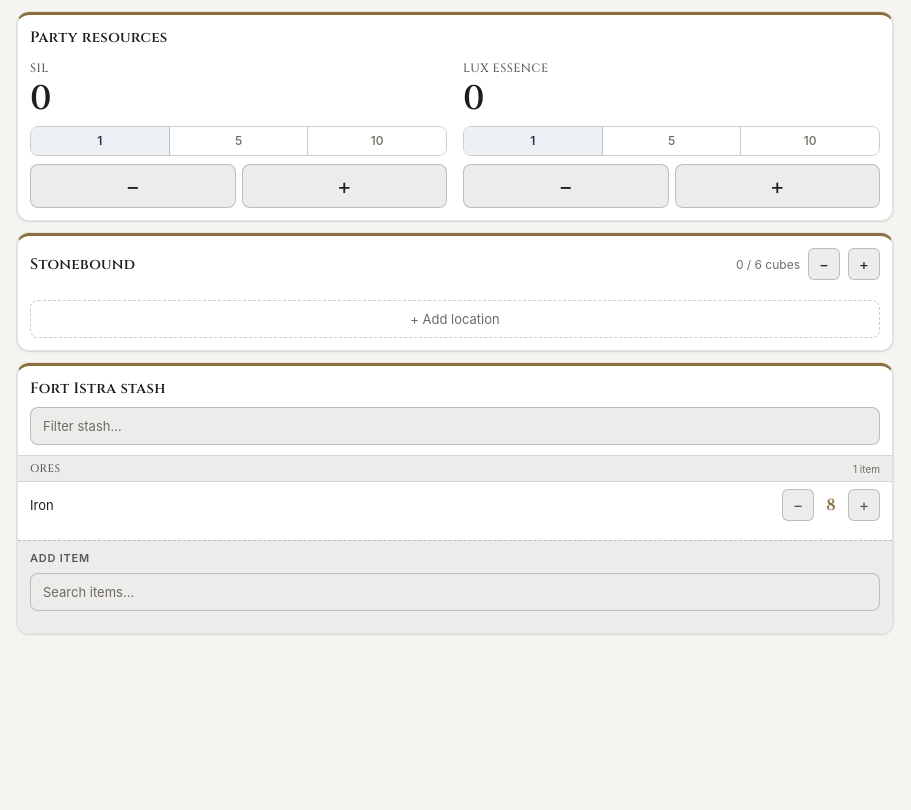
Test case: stash add search — items already held › still lists unheld matches as addable, alongside held ones
This screenshot has width=911, height=810.
Type "Iron" into the field with class "stash-search" showing "Search items…" at x=455, y=592, box [30,573,880,611]
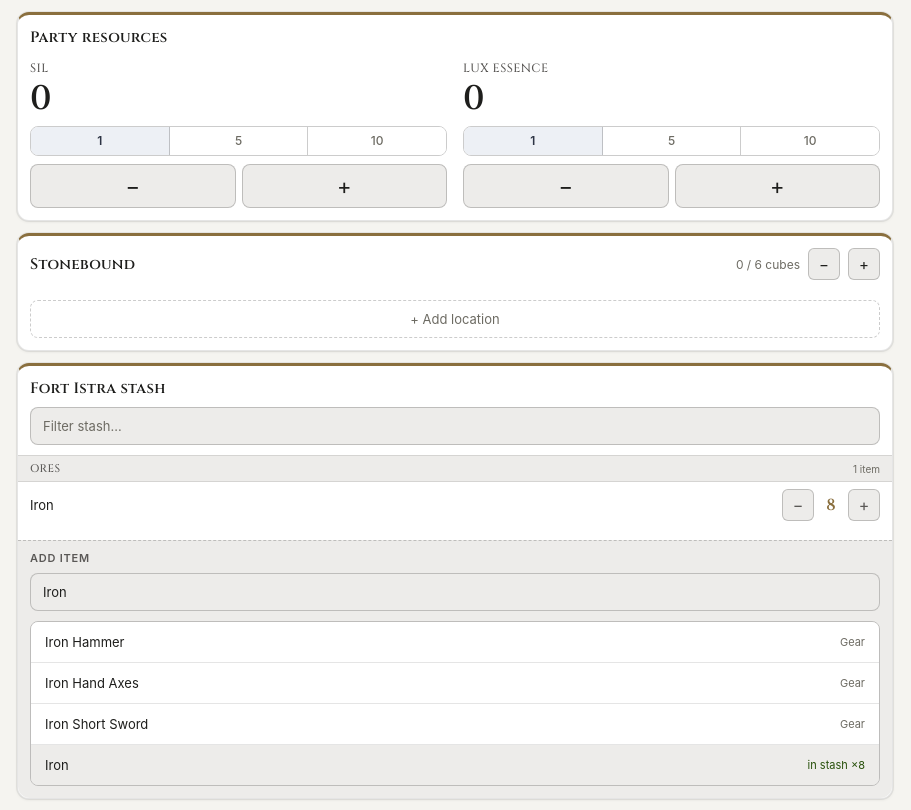
Expected: the number of buttons with class "stash-add-result--held" is 1, [31,745,879,785]
